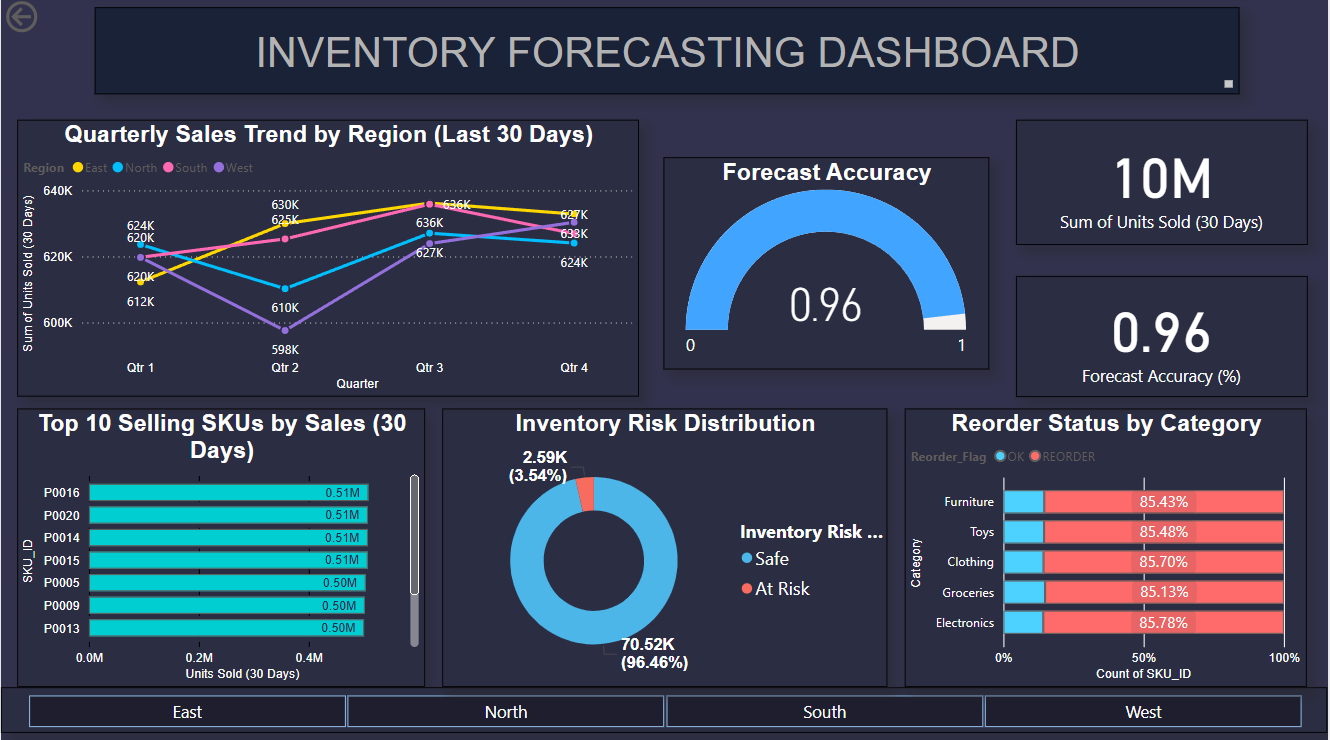

Layout of this report page (visuals, bound fields, positions):
{"tool":"powerbi","page":{"name":"Page 1","canvas":[1280,720],"ordinal":0},"visuals":[{"type":"clusteredBarChart","title":"Top 10 Selling SKUs by Sales (30 Days)","fields":{"Category":["Raw_Data.SKU_ID"],"Y":["Sum(Raw_Data.Units Sold (30 Days))"]},"box":[15.1,397.9,393.8,269],"z":0},{"type":"slicer","fields":{"Values":["Raw_Data.Region"]},"box":[0,666.9,1280.3,43.9],"z":1000},{"type":"donutChart","title":"Inventory Risk Distribution","fields":{"Category":["Raw_Data.Stock_Risk_Flag"],"Y":["CountNonNull(Raw_Data.SKU_ID)"]},"box":[425.4,397.9,429.5,269],"z":2000},{"type":"hundredPercentStackedBarChart","title":"Reorder Status by Category","fields":{"Category":["Raw_Data.Category"],"Series":["Raw_Data.Reorder_Flag"],"Y":["CountNonNull(Raw_Data.SKU_ID)"]},"box":[872.7,397.9,388.3,269],"z":3000},{"type":"lineChart","title":"Quarterly Sales Trend by Region (Last 30 Days)","fields":{"Category":["Raw_Data.Date.Variation.Date Hierarchy.Quarter"],"Y":["Sum(Raw_Data.Units Sold (30 Days))"],"Series":["Raw_Data.Region"]},"box":[15.1,119.4,599.7,267.6],"z":4000},{"type":"gauge","fields":{"Y":["Raw_Data.Forecast Accuracy"]},"box":[639.5,155.1,314.2,204.5],"z":5000},{"type":"card","fields":{"Values":["Sum(Raw_Data.Units Sold (30 Days))"]},"box":[979.8,119.4,281.3,120.8],"z":6000},{"type":"card","fields":{"Values":["Raw_Data.Forecast Accuracy (%)"]},"box":[979.8,270.3,281.3,116.6],"z":7000},{"type":"actionButton","box":[0,0,100,40],"z":8000},{"type":"textbox","title":"INVENTORY FORECASTING DASHBOARD","box":[90.6,11,1104.6,83.7],"z":9000}]}

Visuals, with their boxes on the page's 1280x720 design canvas (x1, y1, x2, y2). These are canvas units, not pixel positions in the 1330x740 screenshot, which may show the page scaled, cropped or inside an application window:
"Top 10 Selling SKUs by Sales (30 Days)" clusteredBarChart: bbox(15, 398, 409, 667)
slicer - Raw_Data.Region: bbox(0, 667, 1280, 711)
"Inventory Risk Distribution" donutChart: bbox(425, 398, 855, 667)
"Reorder Status by Category" hundredPercentStackedBarChart: bbox(873, 398, 1261, 667)
"Quarterly Sales Trend by Region (Last 30 Days)" lineChart: bbox(15, 119, 615, 387)
gauge - Raw_Data.Forecast Accuracy: bbox(640, 155, 954, 360)
card - Sum(Raw_Data.Units Sold (30 Days)): bbox(980, 119, 1261, 240)
card - Raw_Data.Forecast Accuracy (%): bbox(980, 270, 1261, 387)
actionButton: bbox(0, 0, 100, 40)
"INVENTORY FORECASTING DASHBOARD" textbox: bbox(91, 11, 1195, 95)
